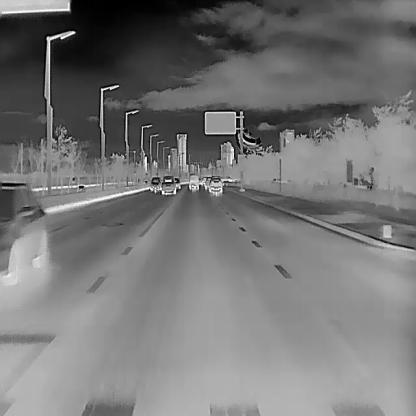car: (1, 180, 47, 286), (160, 175, 175, 195), (208, 177, 222, 192), (149, 175, 160, 191), (189, 175, 199, 190), (203, 176, 213, 189), (172, 176, 180, 190)
